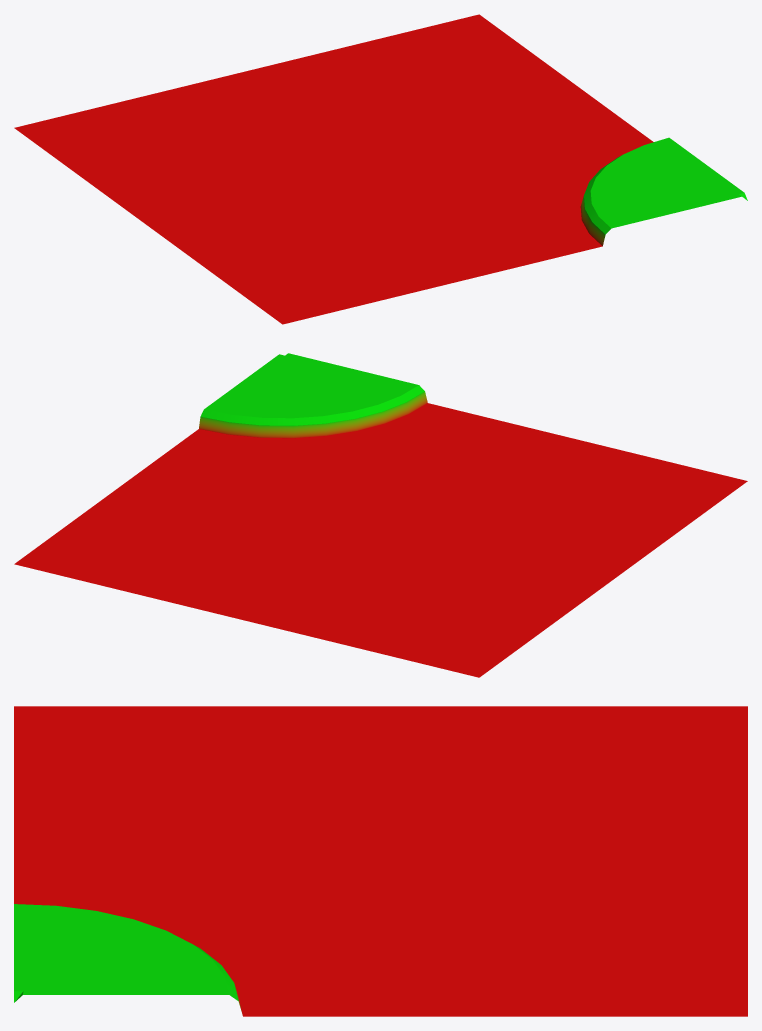
Rendered from WideRoadA_InnerCorner.fbx.
3 renders of one model, top to bottom at view 1: azimuth 30°, elevation 25°; view 2: azimuth 150°, elevation 25°; view 3: azimuth 270°, elevation 25°, orthographic. The views are drawn at different scales.
Parts seen in each view (by area): view 1: WideRoadA_InnerCorner; view 2: WideRoadA_InnerCorner; view 3: WideRoadA_InnerCorner.
Boxes of the visible parts, x1,y1,x2,y2 form: WideRoadA_InnerCorner: (14,14,747,324); WideRoadA_InnerCorner: (14,353,747,677); WideRoadA_InnerCorner: (14,706,747,1016).
Size of the model in its own units: 2 by 2 by 0.065.
